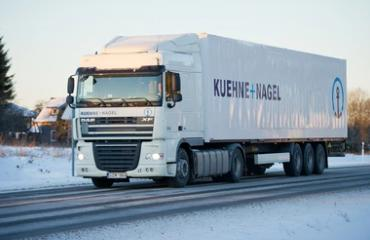vehicle: (66, 33, 348, 188)
